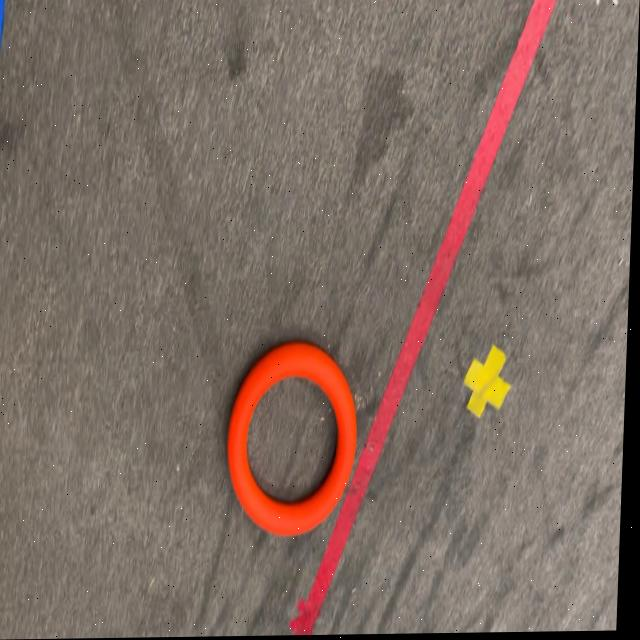note: (229, 343, 363, 540)
